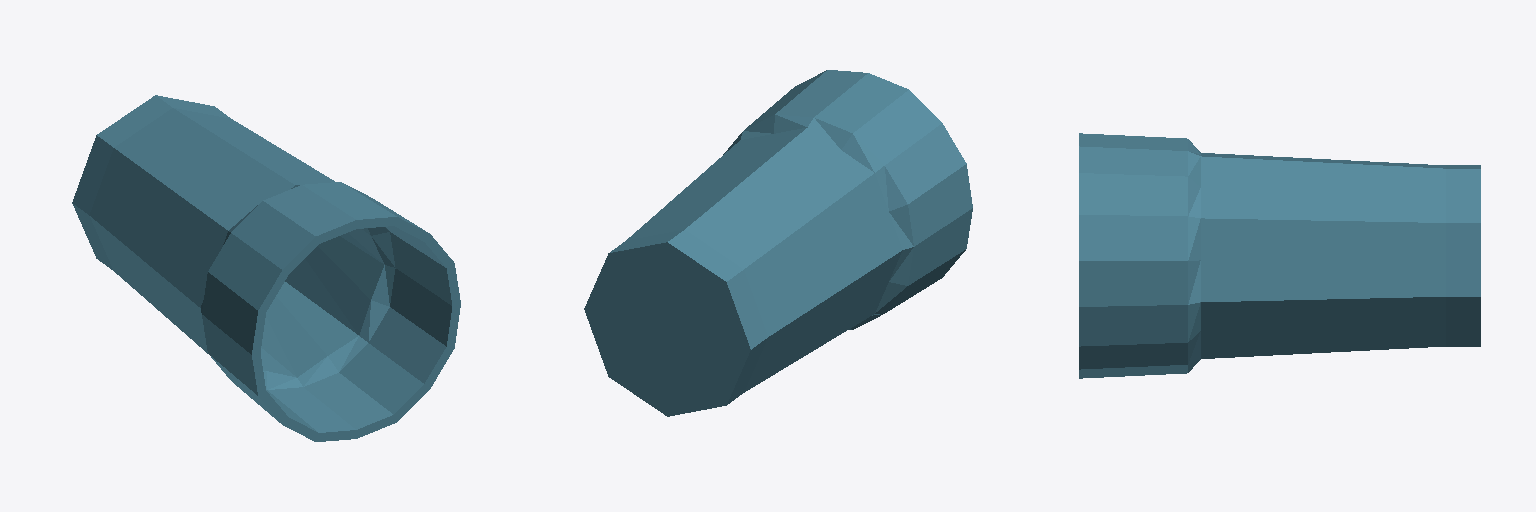
File: ikea_glass.obj
3 views of the same model, side by side, from view 1: azimuth 30°, elevation 25°; view 2: azimuth 150°, elevation 25°; view 3: azimuth 270°, elevation 25° (orthographic).
Visible parts, largest first — view 1: IkeaGlass_Cylinder.001; view 2: IkeaGlass_Cylinder.001; view 3: IkeaGlass_Cylinder.001.
Part boxes in pixels (x1,y1,x2,y2): IkeaGlass_Cylinder.001: (72, 95, 460, 441); IkeaGlass_Cylinder.001: (584, 70, 972, 416); IkeaGlass_Cylinder.001: (1079, 133, 1480, 378).
Size of the model in its own units: 0.0502 by 0.0502 by 0.0834.